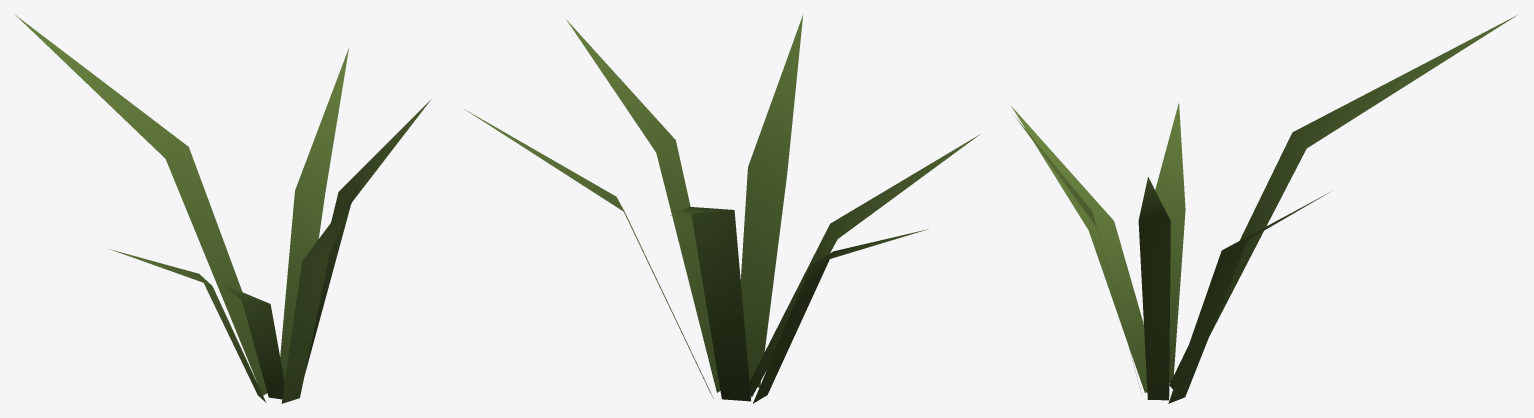
File: MeadowGrass_3_lod1.glb
The picture shows the model from 3 angles, left to right: view 1: azimuth 30°, elevation 25°; view 2: azimuth 150°, elevation 25°; view 3: azimuth 270°, elevation 25°; orthographic projection. The views are drawn at different scales.
Visible parts, largest first — view 1: MeadowGrass_3_lod1; view 2: MeadowGrass_3_lod1; view 3: MeadowGrass_3_lod1.
Part boxes in pixels (bbox=[...]): MeadowGrass_3_lod1: bbox=[15, 15, 431, 403]; MeadowGrass_3_lod1: bbox=[463, 14, 980, 403]; MeadowGrass_3_lod1: bbox=[1011, 15, 1516, 403].
Size of the model in its own units: 0.3699 by 0.3269 by 0.4689.
